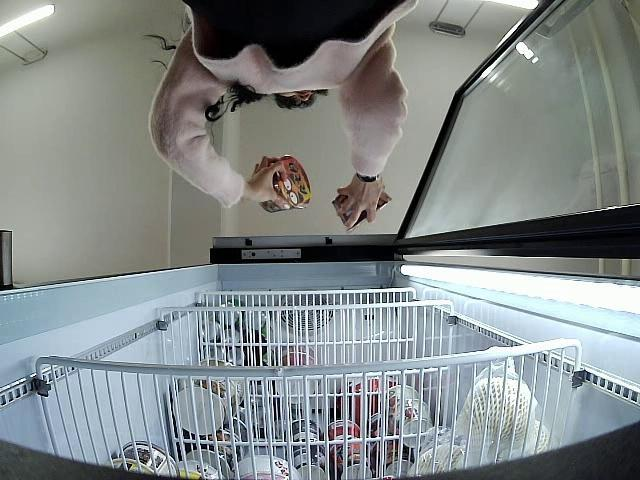05_nuguri_L: (330, 183, 390, 232), (262, 156, 310, 215)
